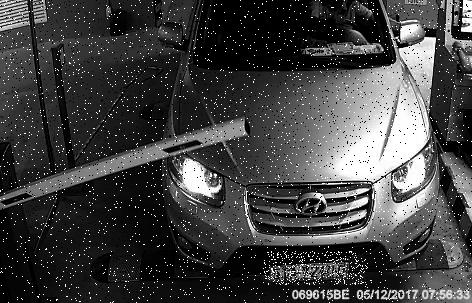License-plate: (265, 252, 369, 286)
